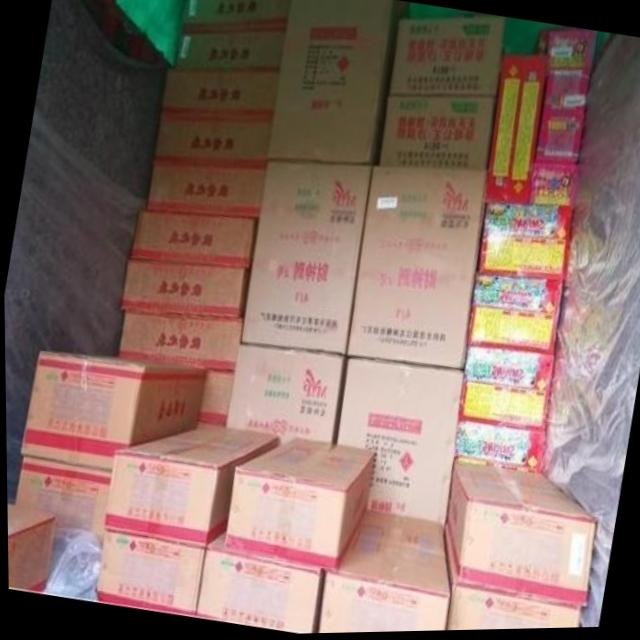box: (345, 168, 489, 372), (240, 162, 370, 359), (265, 0, 411, 166), (442, 466, 597, 611), (18, 352, 203, 472), (103, 422, 277, 549), (334, 358, 461, 526), (221, 439, 373, 571), (315, 509, 449, 635), (441, 530, 579, 632), (192, 533, 322, 635), (222, 344, 345, 445), (93, 530, 202, 618), (389, 19, 503, 100), (378, 96, 492, 173), (13, 456, 109, 545), (116, 310, 240, 372), (120, 259, 247, 319), (128, 211, 255, 269), (142, 160, 263, 218), (504, 53, 548, 209), (152, 112, 271, 169), (485, 58, 526, 205), (159, 69, 278, 114), (461, 344, 551, 398), (475, 232, 569, 282), (451, 422, 544, 471), (455, 385, 548, 432), (173, 32, 283, 71), (464, 309, 555, 356), (470, 274, 562, 319), (6, 505, 53, 592), (484, 202, 571, 243), (181, 0, 289, 33), (532, 111, 583, 166), (528, 166, 579, 213), (536, 33, 595, 72), (195, 369, 231, 428), (543, 70, 589, 114), (450, 459, 541, 475)
